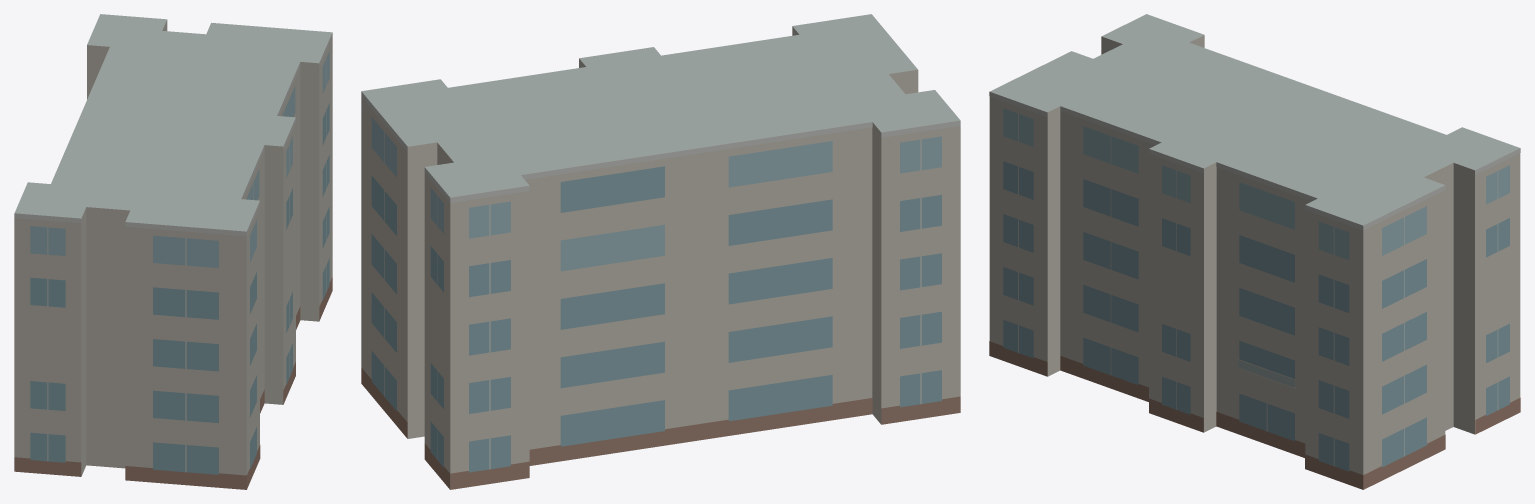
File: survey-upis-32625660.glb
3 renders of one model, left to right at view 1: azimuth 30°, elevation 25°; view 2: azimuth 150°, elevation 25°; view 3: azimuth 270°, elevation 25°, orthographic. The views are drawn at different scales.
Parts seen in each view (by area): view 1: survey-upis-32625660.tmp; view 2: survey-upis-32625660.tmp; view 3: survey-upis-32625660.tmp.
Part boxes in pixels (x1=…): survey-upis-32625660.tmp: x1=14, y1=14, x2=332, y2=489; survey-upis-32625660.tmp: x1=361, y1=14, x2=960, y2=489; survey-upis-32625660.tmp: x1=989, y1=14, x2=1520, y2=489.
Size of the model in its own units: 23.02 by 13.4 by 24.41.
